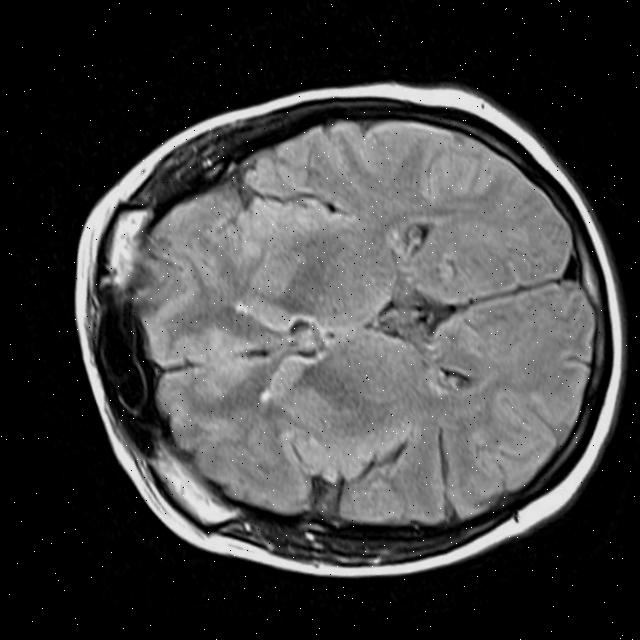NoTumor: (3, 11, 640, 640)
